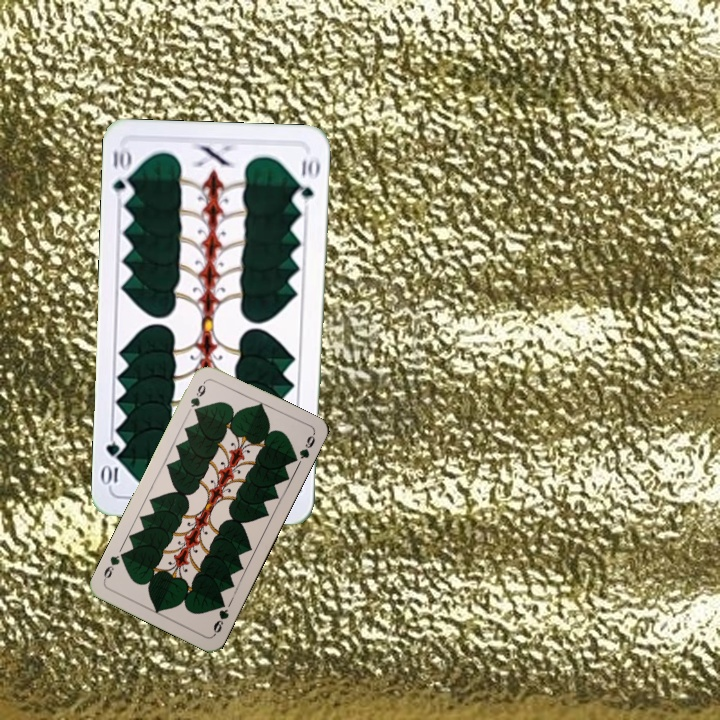G10: (109, 143, 136, 203)
G9: (209, 597, 231, 638), (186, 377, 209, 416)
